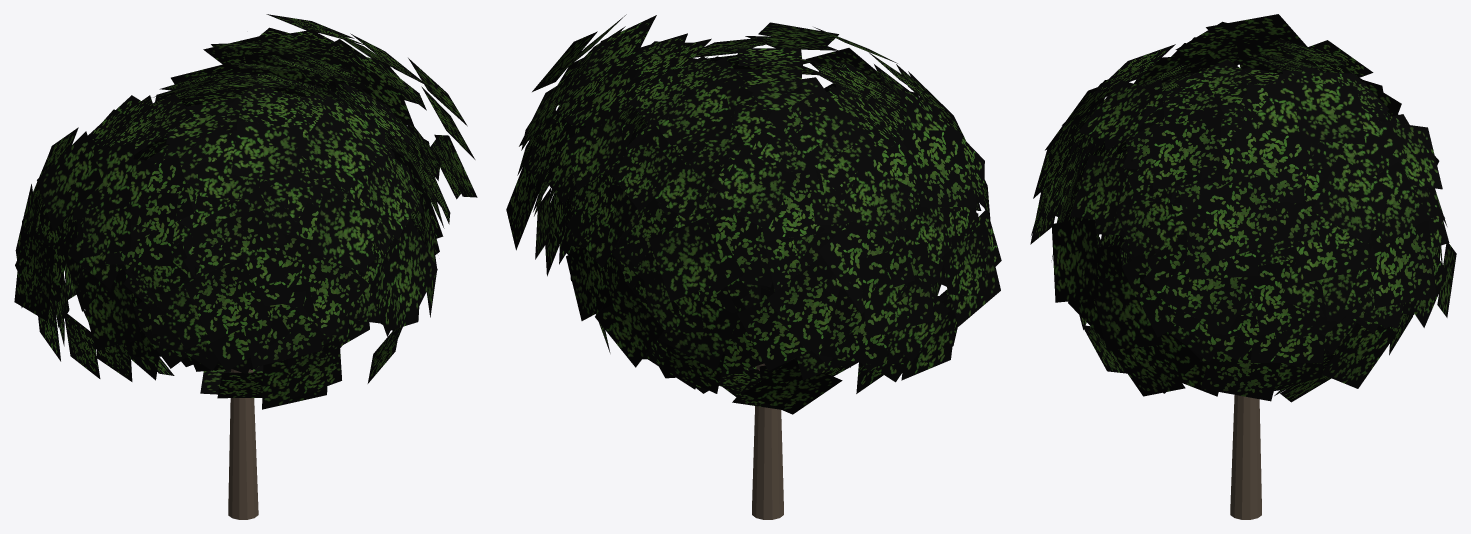
File: bully_tree_a.glb
3 views of the same model, side by side, from view 1: azimuth 30°, elevation 25°; view 2: azimuth 150°, elevation 25°; view 3: azimuth 270°, elevation 25° (orthographic). The views are drawn at different scales.
Parts seen in each view (by area): view 1: tree_small_02_a_leaves, tree_small_02_a_wood; view 2: tree_small_02_a_leaves, tree_small_02_a_wood; view 3: tree_small_02_a_leaves, tree_small_02_a_wood.
Boxes of the visible parts, x1=… form: tree_small_02_a_leaves: x1=14, y1=14, x2=477, y2=409; tree_small_02_a_wood: x1=228, y1=369, x2=258, y2=519; tree_small_02_a_leaves: x1=506, y1=14, x2=1001, y2=414; tree_small_02_a_wood: x1=752, y1=363, x2=783, y2=519; tree_small_02_a_leaves: x1=1030, y1=14, x2=1456, y2=402; tree_small_02_a_wood: x1=1230, y1=395, x2=1261, y2=519.
Bounding box in the file's own units: 9.25 × 9.58 × 7.75.
2 materials, 1 textured.
